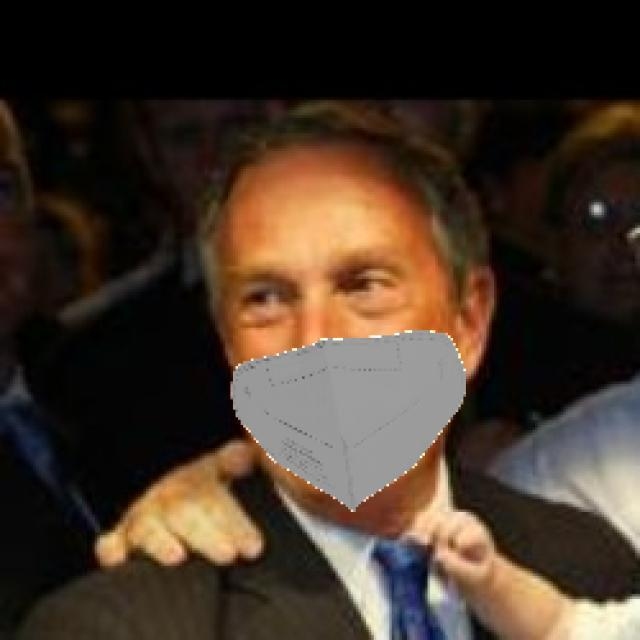kn95: (220, 182, 450, 516)
